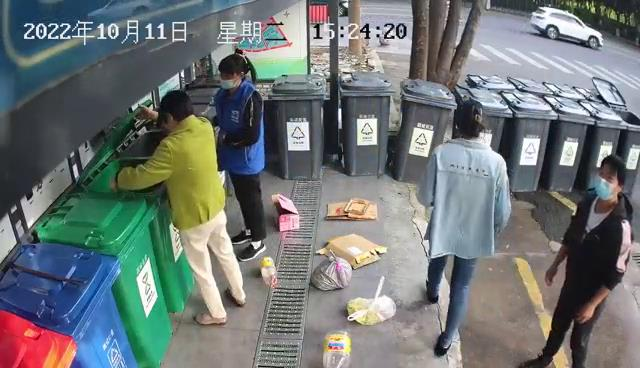garbage-bag: (345, 274, 397, 327), (309, 249, 354, 291)
person: (109, 88, 246, 325), (513, 152, 640, 368)
suliaozhipin: (320, 329, 354, 368), (259, 255, 279, 289)
worker: (414, 96, 514, 358), (205, 47, 268, 262)
zhizhipin: (315, 232, 389, 270), (323, 197, 380, 223), (270, 192, 301, 232)
